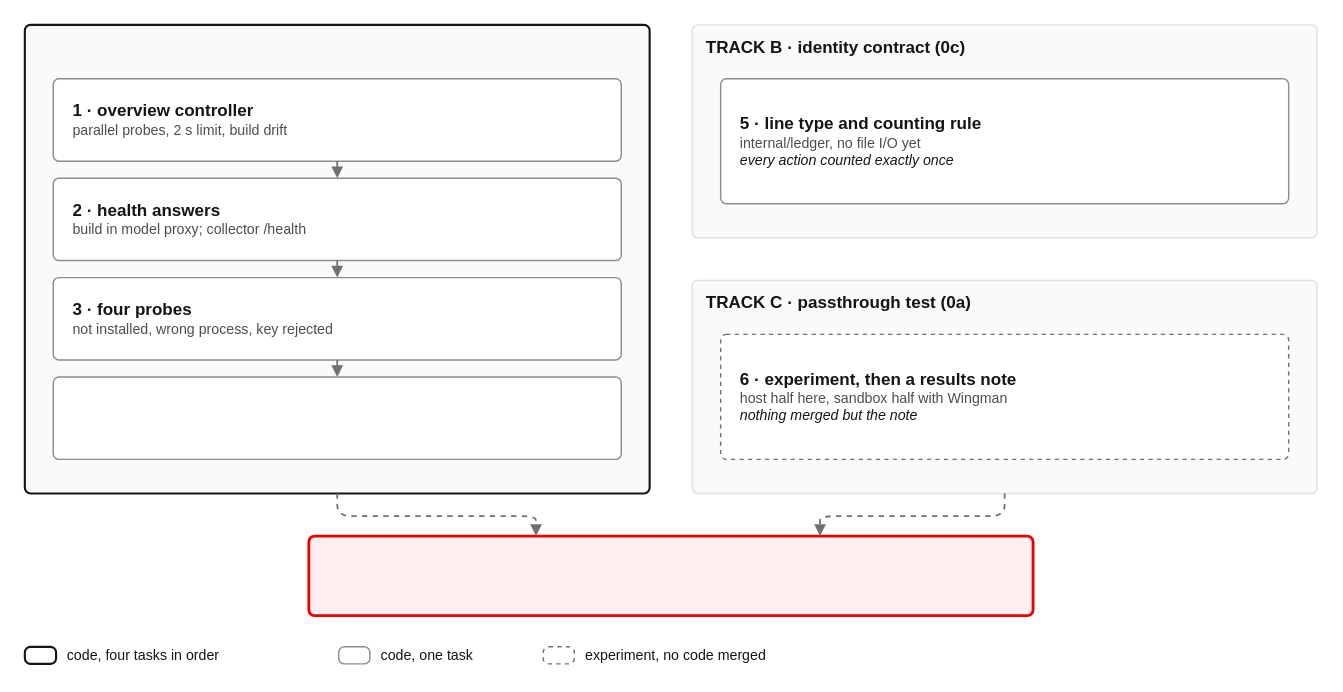
Some shapes in this 1343 by 692 pixel diagram are drawn without their labels. The shapes that lost their labels are listed below. From the top down, each one's box as (x1, y1, x2, y2) in pixels, then its label:
(23, 23, 650, 494): TRACK A · aimux status (0b)
(52, 376, 621, 459): 4 · the command table, --json, exit code
(307, 534, 1034, 616): then: step 1, the ledger stands on tracks B and C; status shows it running
